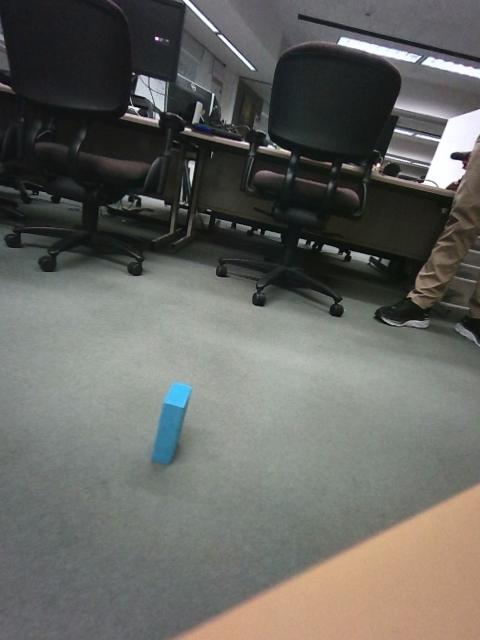block: (117, 310, 182, 354)
